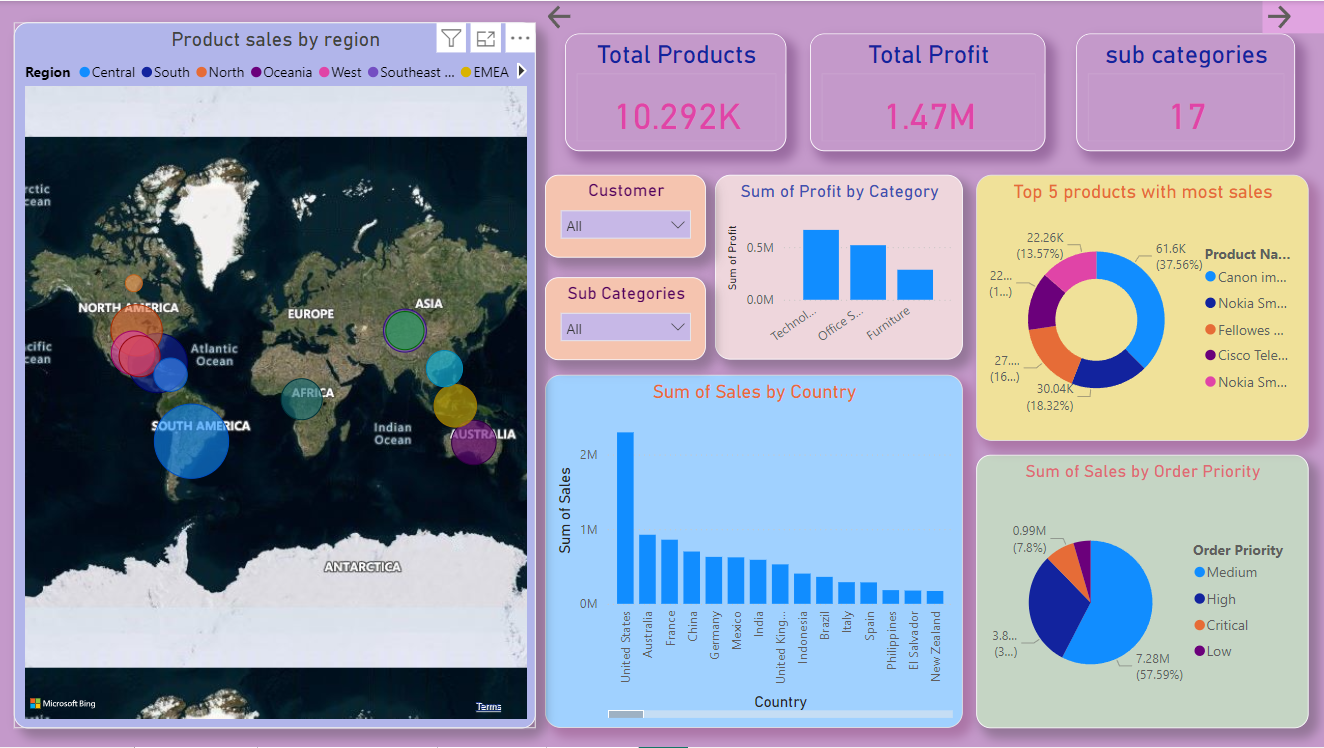

The page's visual inventory and layout, read from the dashboard file:
{"tool":"powerbi","page":{"name":"Sales and products","canvas":[1280,720],"ordinal":1},"visuals":[{"type":"cardVisual","title":"sub categories","fields":{"Data":["Count(Orders.Sub-Category)"]},"box":[1038.3,31.1,210.9,113.6],"z":1000},{"type":"cardVisual","title":"Total Shipping cost","fields":{"Data":["Sum(Orders.Shipping Cost)"]},"box":[186.6,40.6,205.5,104.1],"z":2000},{"type":"cardVisual","title":"Total Profit","fields":{"Data":["Sum(Orders.Profit)"]},"box":[781.4,31.1,227.1,113.6],"z":3000},{"type":"cardVisual","title":"Total Products","fields":{"Data":["Count(Orders.Product ID)"]},"box":[544.8,31.1,213.6,113.6],"z":4000},{"type":"lineClusteredColumnComboChart","fields":{"Category":["Orders.Country"],"Y":["Sum(Orders.Sales)"]},"box":[525.9,361,402.9,340.7],"z":6000},{"type":"pieChart","fields":{"Category":["Orders.Order Priority"],"Y":["Sum(Orders.Sales)"]},"box":[942.3,438,320.4,263.6],"z":7000},{"type":"lineClusteredColumnComboChart","fields":{"Category":["Orders.Category"],"Y":["Sum(Orders.Profit)"]},"box":[689.5,167.6,239.3,178.5],"z":8000},{"type":"map","title":"Product sales by region ","fields":{"Category":["Orders.Region"],"Size":["Sum(Orders.Quantity)"],"Series":["Orders.Region"]},"box":[13.5,20.3,504.3,681.4],"z":9000},{"type":"donutChart","title":"Top 5 products with most sales","fields":{"Y":["Sum(Orders.Sales)"],"Category":["Orders.Product Name"]},"box":[942.3,167.6,320.4,256.9],"z":10000},{"type":"slicer","title":"Customer","fields":{"Values":["Orders.Customer Name"]},"box":[525.9,167.6,155.5,79.8],"z":11000},{"type":"slicer","title":"Sub Categories","fields":{"Values":["Orders.Sub-Category"]},"box":[525.9,266.3,155.5,79.8],"z":13000},{"type":"actionButton","box":[1218.1,0,62.2,31.1],"z":15000},{"type":"actionButton","box":[524.5,0,79.8,31.1],"z":16000}]}

Visuals, with their boxes in screenshot pixels (x1, y1, x2, y2), scaled from the page's 1280x720 canvas onto the 1324x748 screenshot:
"sub categories" cardVisual: (1074, 32, 1292, 150)
"Total Shipping cost" cardVisual: (193, 42, 406, 150)
"Total Profit" cardVisual: (808, 32, 1043, 150)
"Total Products" cardVisual: (564, 32, 784, 150)
lineClusteredColumnComboChart - Orders.Country x Sum(Orders.Sales): (544, 375, 961, 729)
pieChart - Orders.Order Priority x Sum(Orders.Sales): (975, 455, 1306, 729)
lineClusteredColumnComboChart - Orders.Category x Sum(Orders.Profit): (713, 174, 961, 360)
"Product sales by region " map: (14, 21, 536, 729)
"Top 5 products with most sales" donutChart: (975, 174, 1306, 441)
"Customer" slicer: (544, 174, 705, 257)
"Sub Categories" slicer: (544, 277, 705, 360)
actionButton: (1260, 0, 1323, 32)
actionButton: (543, 0, 625, 32)
